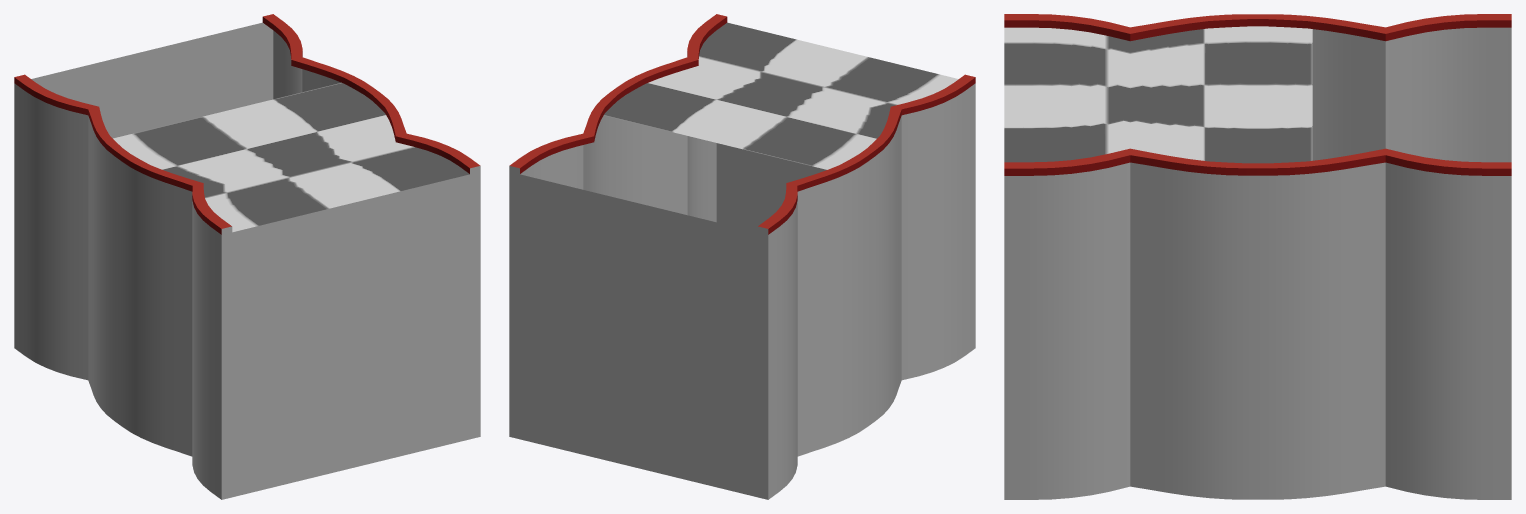
Rendered from Road_Curve_05.fbx.
3 renders of one model, left to right at view 1: azimuth 30°, elevation 25°; view 2: azimuth 150°, elevation 25°; view 3: azimuth 270°, elevation 25°, orthographic. The views are drawn at different scales.
Visible parts, largest first — view 1: Road_Curve_05, Road_Curve_05_Border; view 2: Road_Curve_05, Road_Curve_05_Border; view 3: Road_Curve_05, Road_Curve_05_Border.
Part boxes in pixels (bbox=[...]): Road_Curve_05: bbox=[14, 22, 480, 499]; Road_Curve_05_Border: bbox=[14, 14, 480, 234]; Road_Curve_05: bbox=[509, 22, 975, 499]; Road_Curve_05_Border: bbox=[509, 14, 975, 234]; Road_Curve_05: bbox=[1004, 26, 1511, 499]; Road_Curve_05_Border: bbox=[1004, 14, 1511, 175].
Bounding box in the file's own units: 876 × 876 × 1215.
